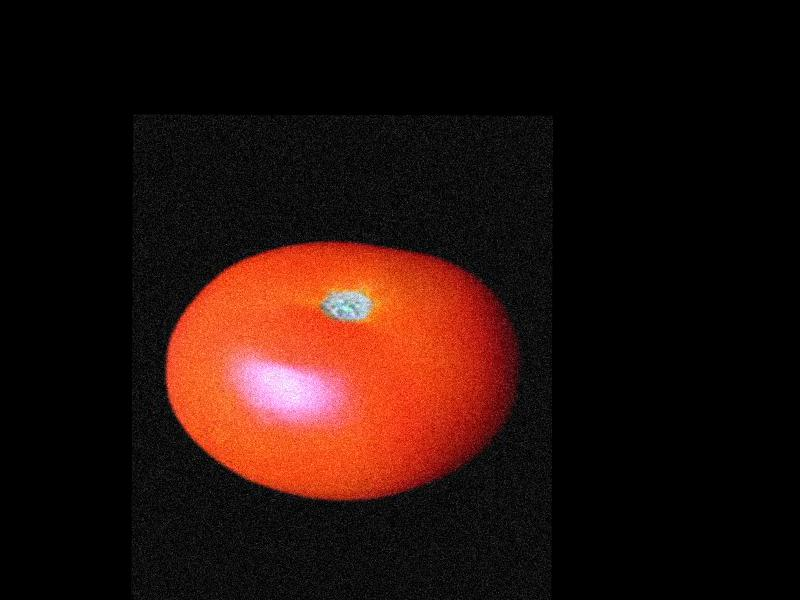Tomato: (164, 241, 520, 500)
